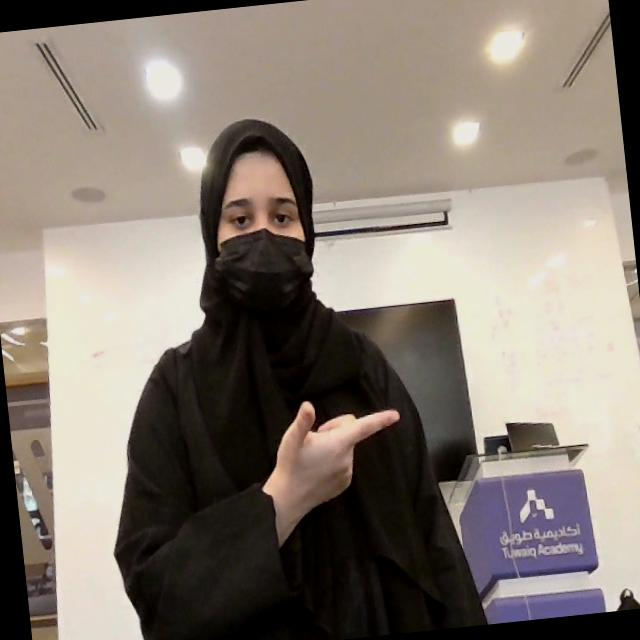dispensing: (255, 388, 410, 524)
